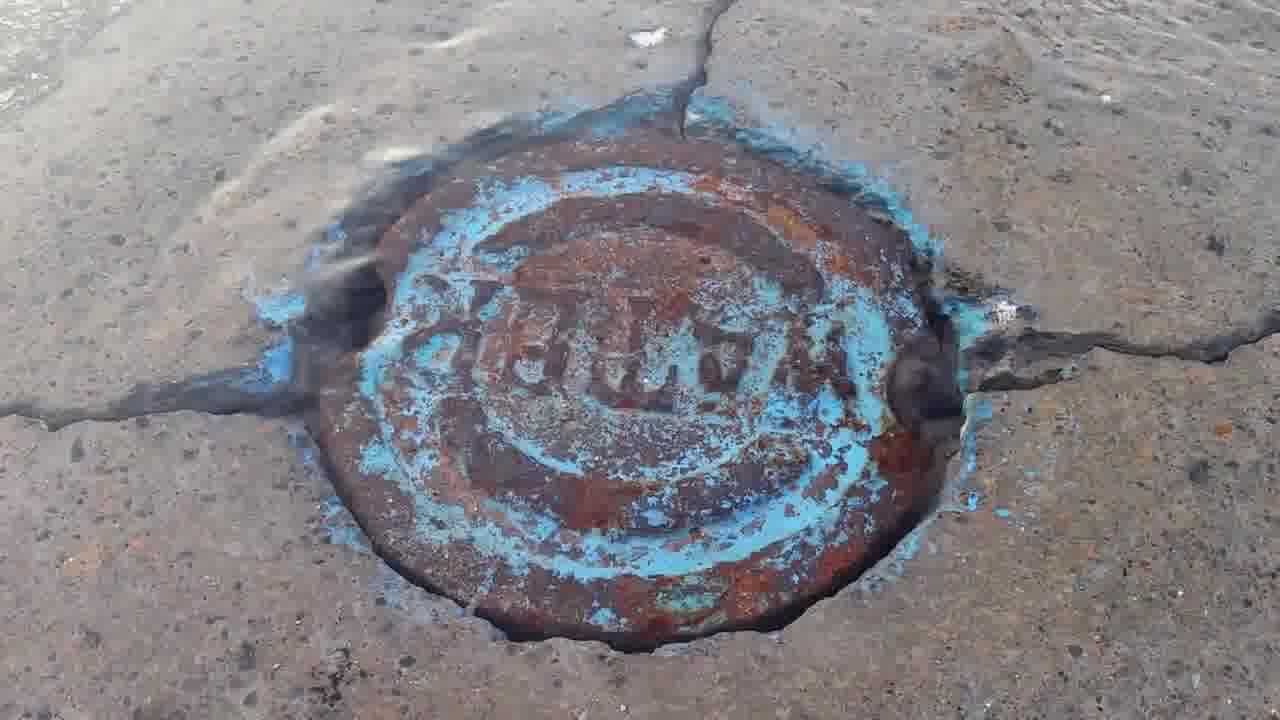closed manhole-not overflowing-: (298, 110, 999, 663)
